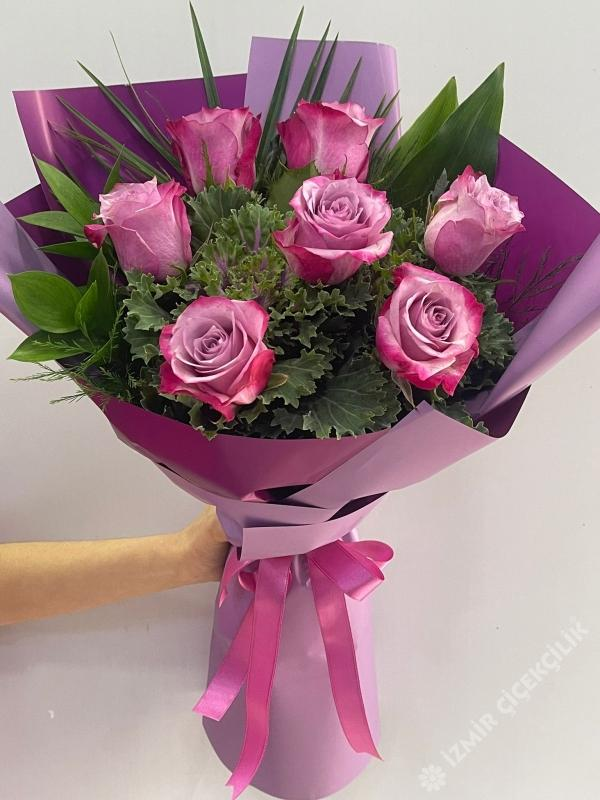Rose: (154, 289, 293, 435), (266, 157, 418, 282), (379, 257, 492, 405), (89, 172, 211, 292), (161, 74, 269, 203), (274, 55, 391, 174), (432, 159, 533, 285)
